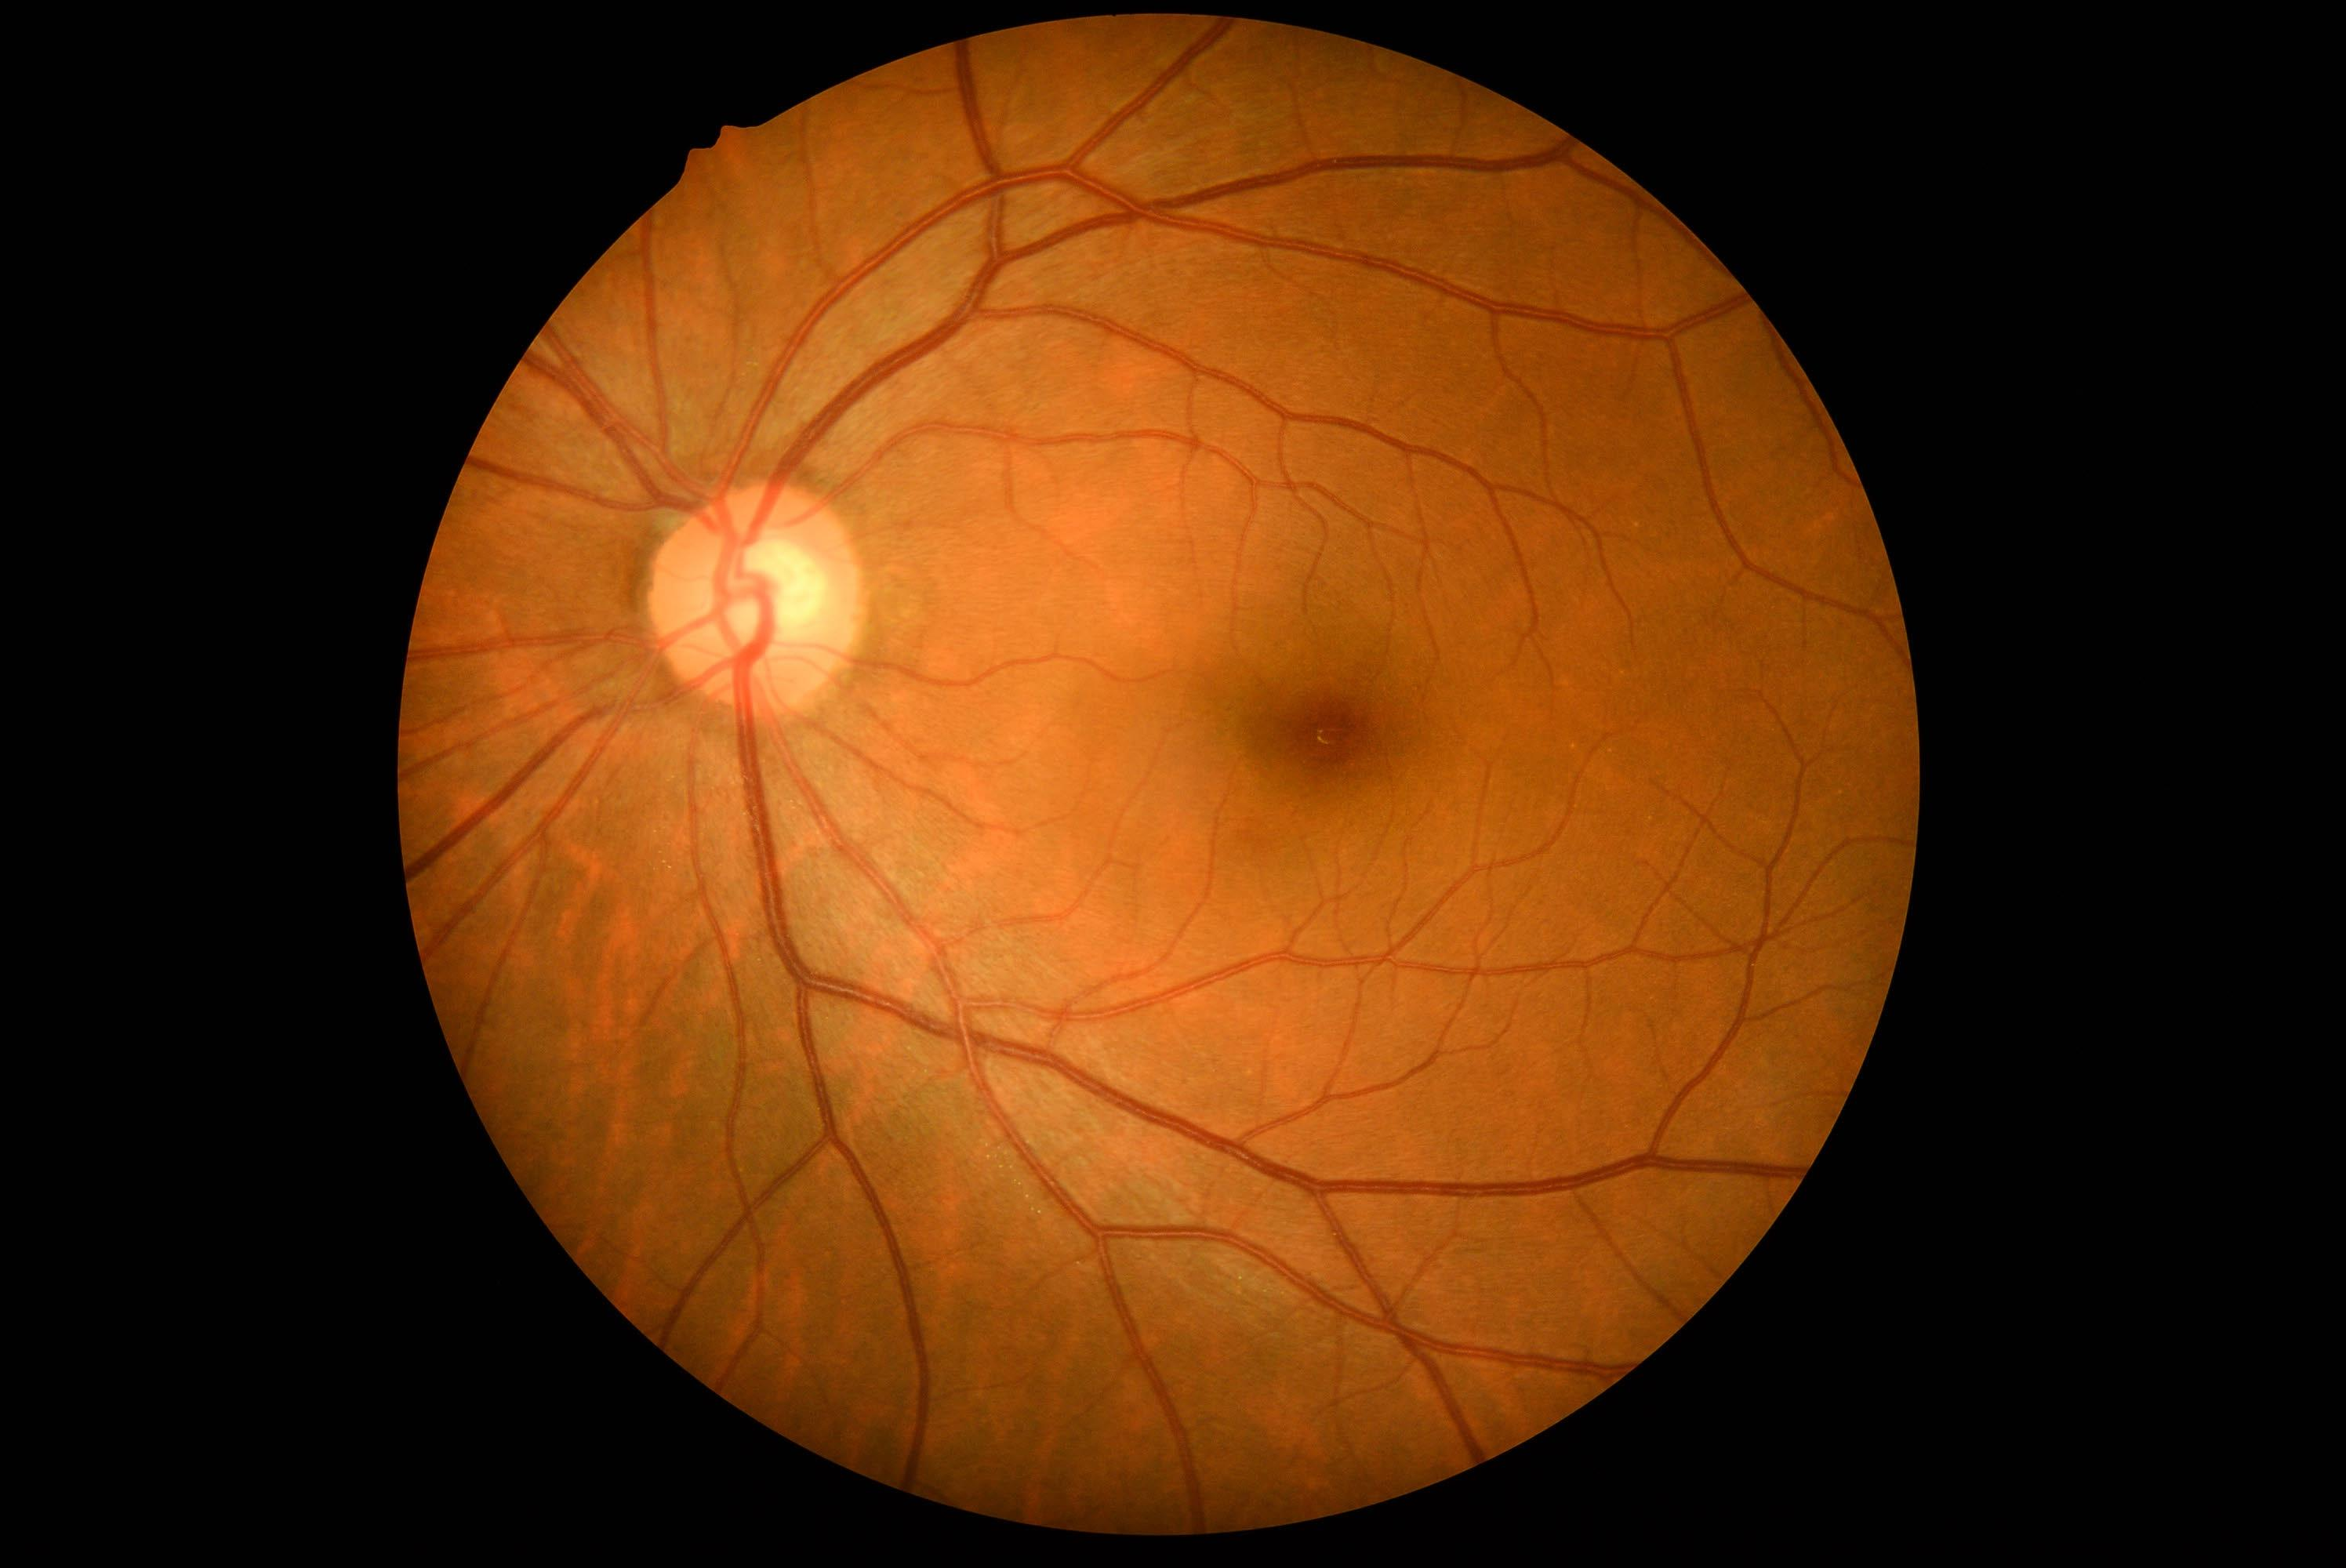Fovea: (1253, 658, 1401, 803)
